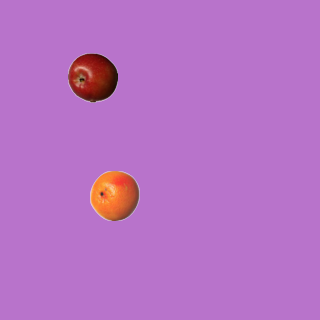Apple Braeburn: (67, 52, 117, 102)
Grapefruit Pink: (89, 170, 139, 220)
